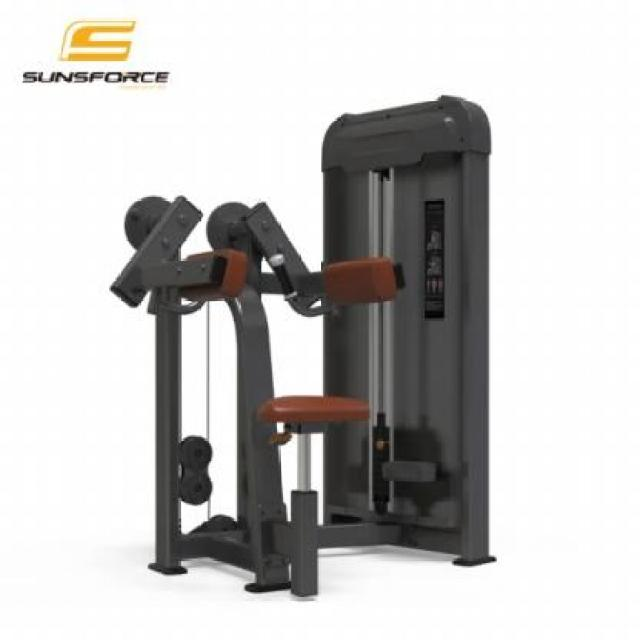lateral raises machine: (104, 93, 502, 604)
